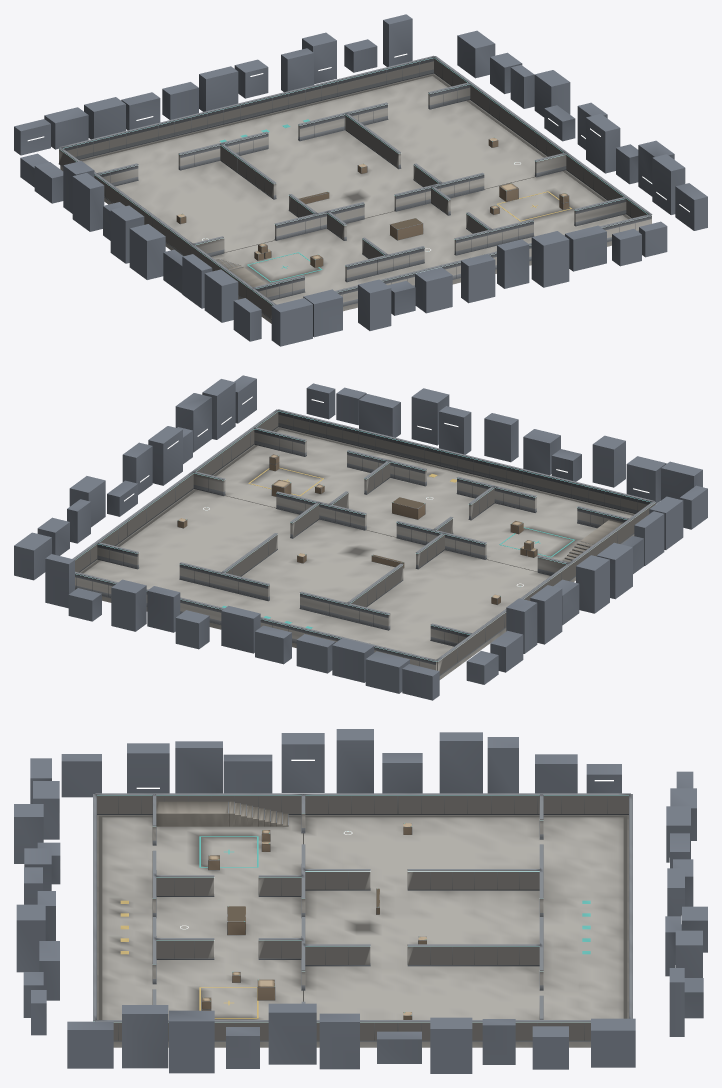
Rendered from map_crossing.glb.
The picture shows the model from 3 angles, top to bottom: view 1: azimuth 30°, elevation 25°; view 2: azimuth 150°, elevation 25°; view 3: azimuth 270°, elevation 25°; orthographic projection. The views are drawn at different scales.
Parts seen in each view (by area): view 1: map_crossing; view 2: map_crossing; view 3: map_crossing.
Part boxes in pixels (x1=…): map_crossing: x1=14, y1=14, x2=707, y2=346; map_crossing: x1=14, y1=375, x2=707, y2=700; map_crossing: x1=14, y1=729, x2=707, y2=1073.
Bounding box in the file's own units: 92.88 × 9.09 × 93.21.
